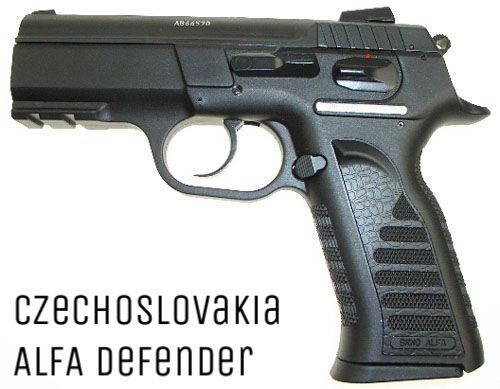gun: (7, 7, 493, 383)
